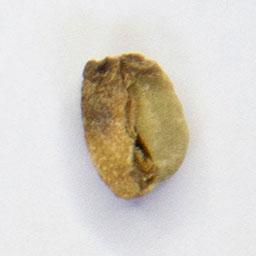defect: (79, 51, 191, 203)
